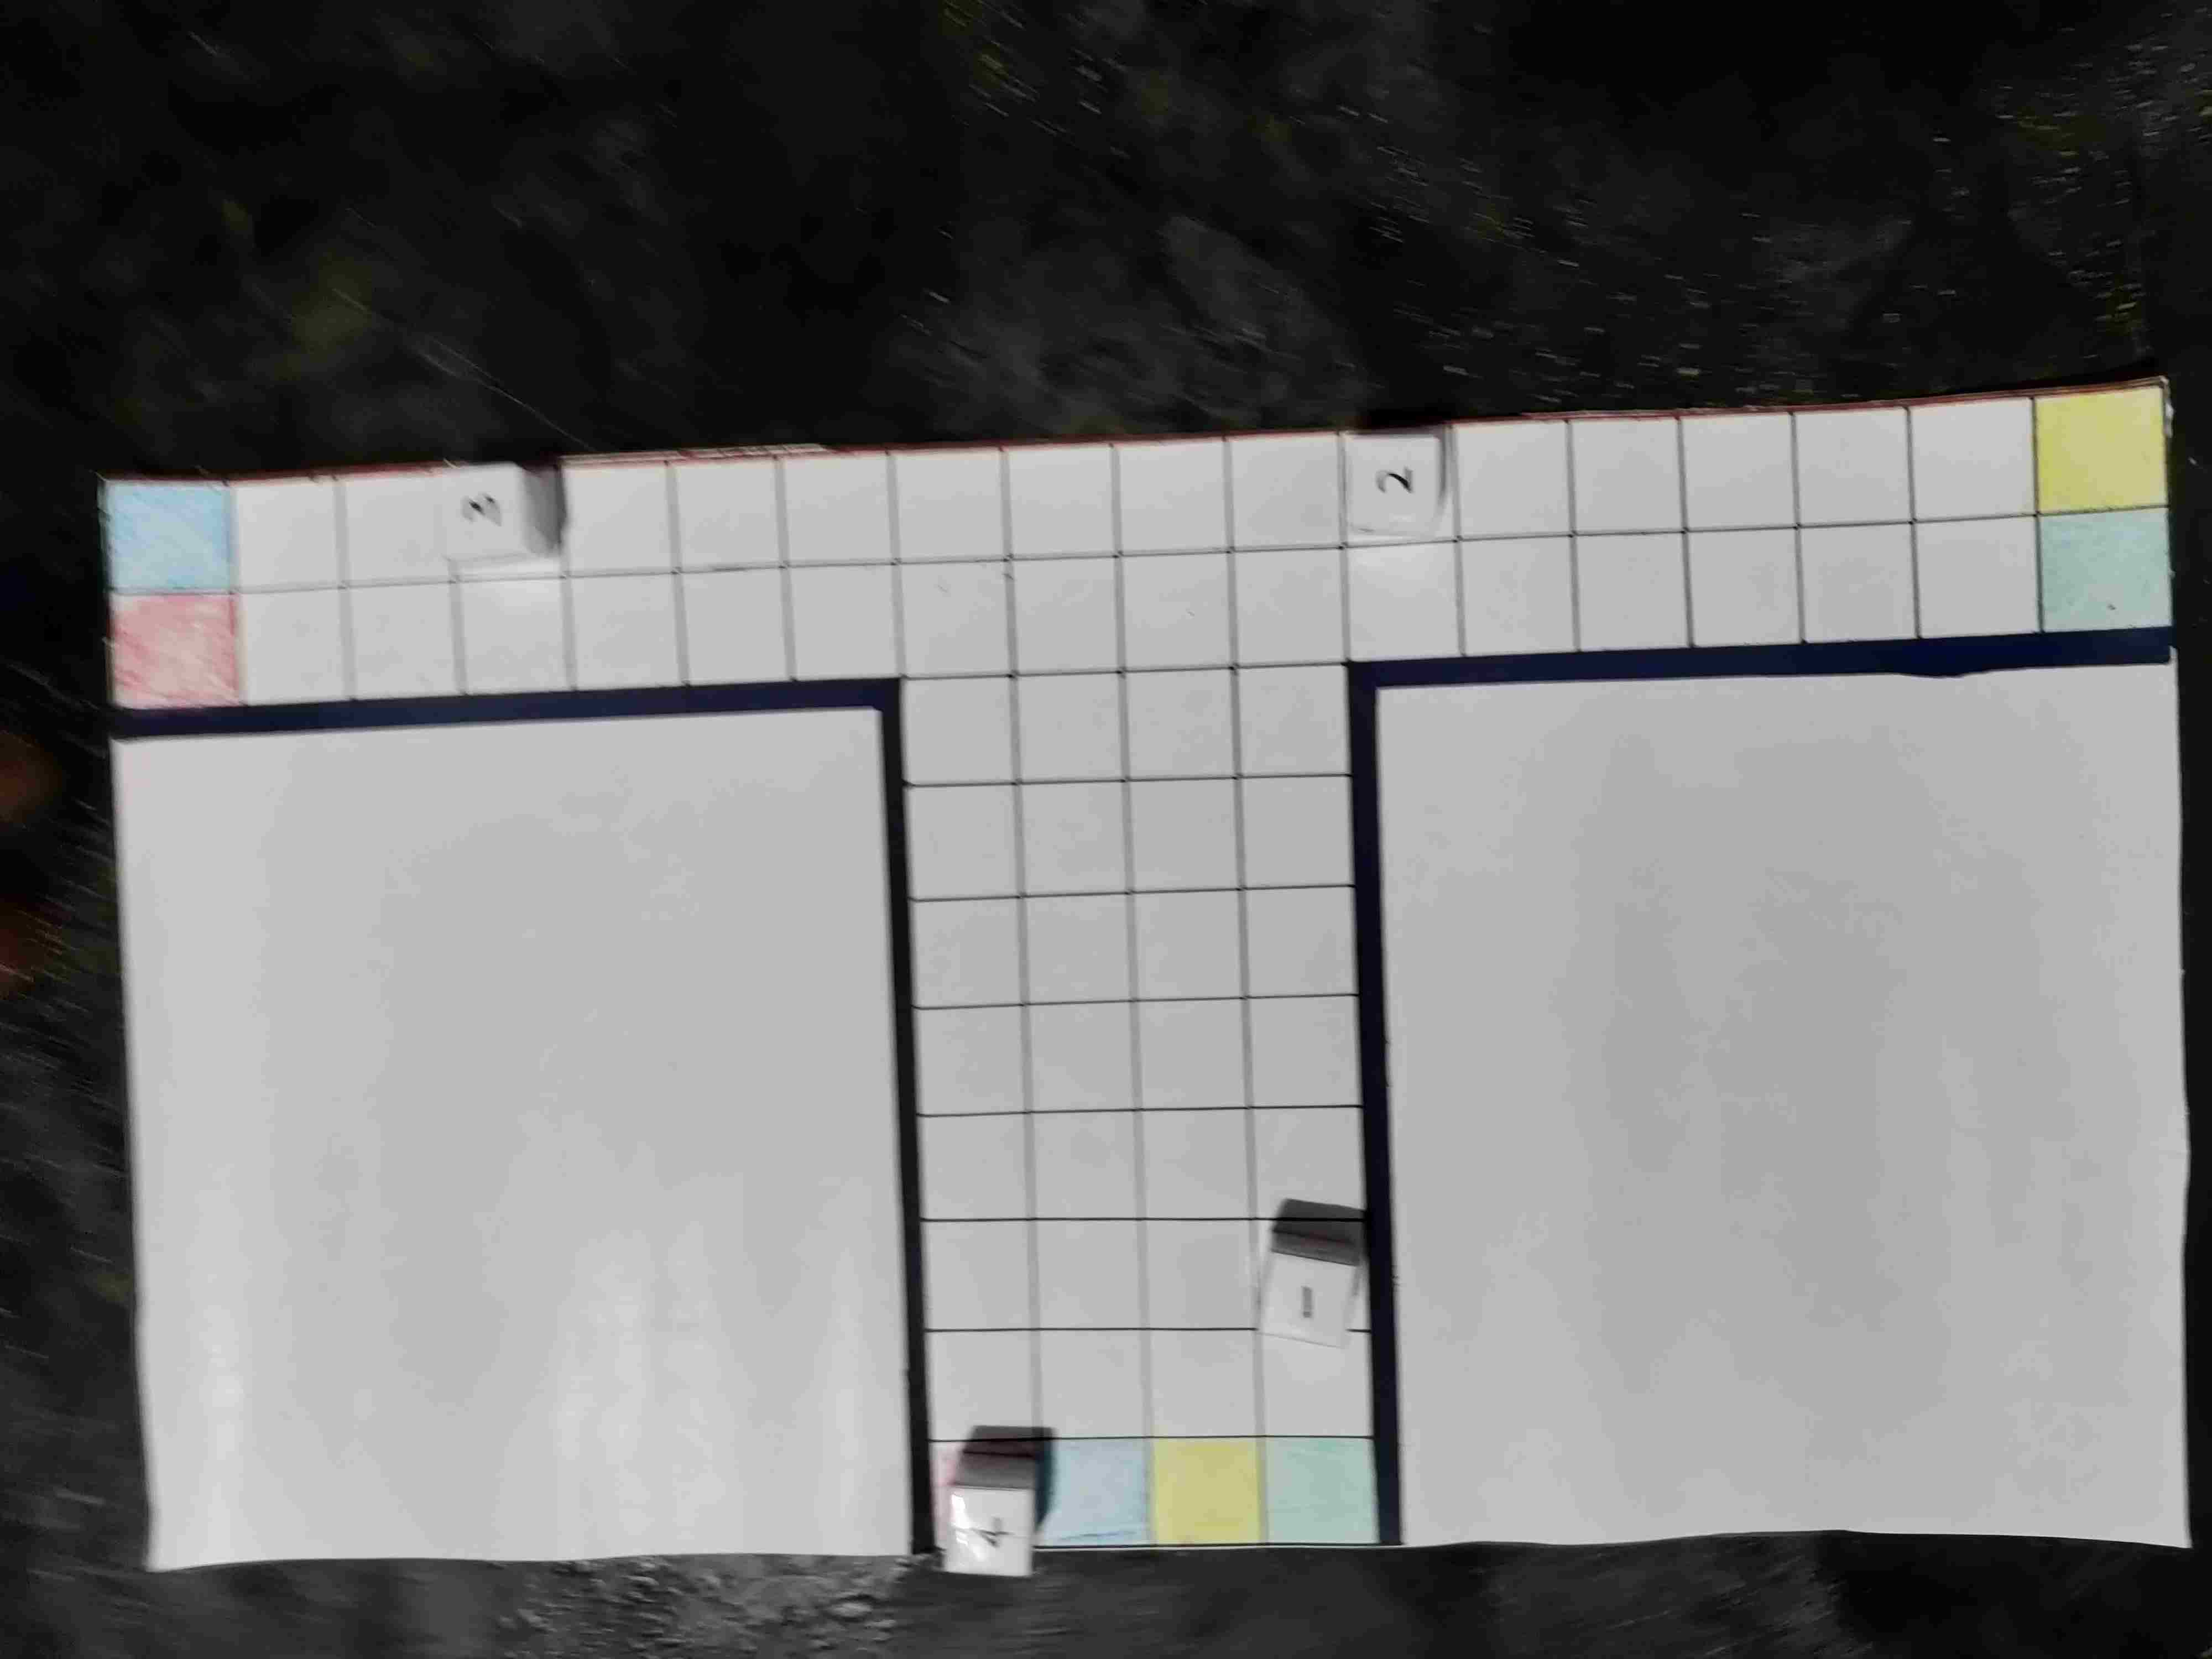arena: (103, 382, 2174, 1556)
bot: (435, 460, 529, 558), (1254, 1251, 1357, 1340), (1352, 437, 1444, 535), (949, 1488, 1038, 1581)
